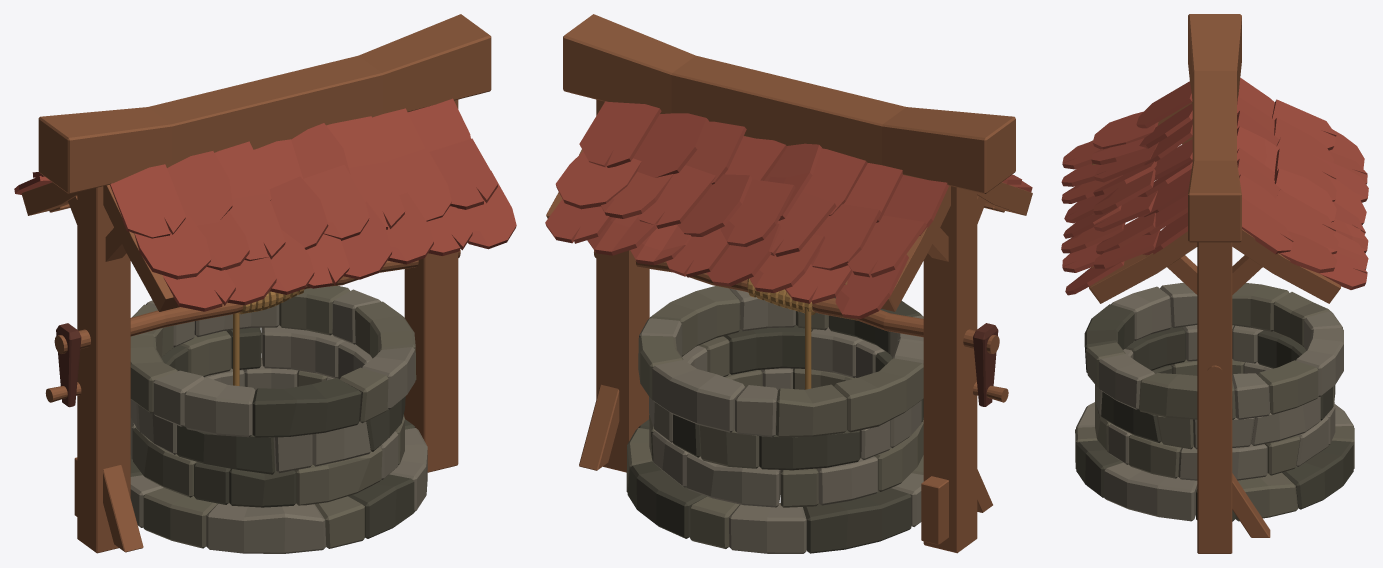
Rendered from WaterWell.fbx.
3 views of the same model, side by side, from view 1: azimuth 30°, elevation 25°; view 2: azimuth 150°, elevation 25°; view 3: azimuth 270°, elevation 25° (orthographic). The views are drawn at different scales.
Parts seen in each view (by area): view 1: Well Base; view 2: Well Base; view 3: Well Base.
Boxes of the visible parts, <box> form: Well Base: <box>14,14,516,553</box>; Well Base: <box>545,14,1032,553</box>; Well Base: <box>1061,14,1368,553</box>.
Size of the model in its own units: 615 by 588 by 440.
